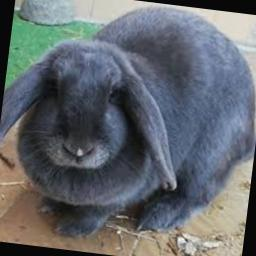rabbit: (0, 7, 254, 237)
